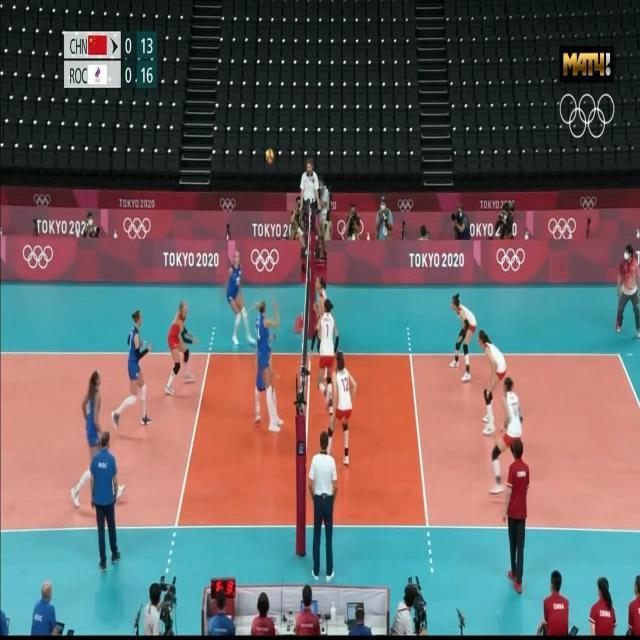volleyball: (264, 148, 275, 164)
